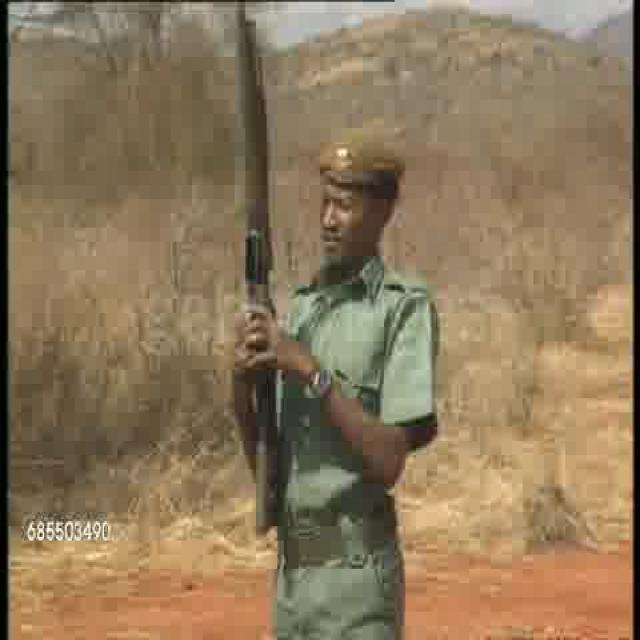poacher: (274, 94, 460, 574)
weapon: (238, 1, 274, 522)
